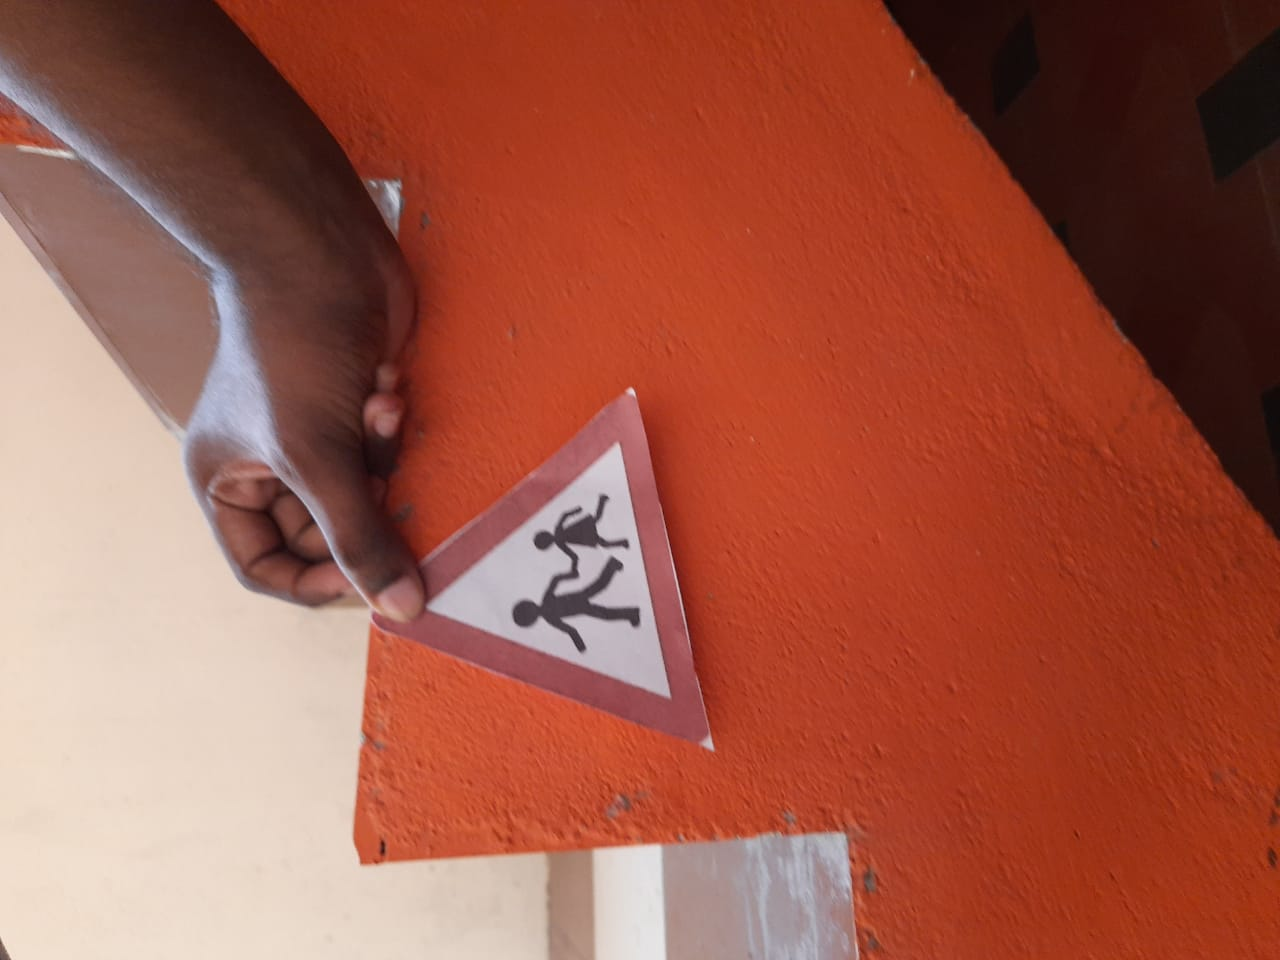SCHOOL ZONE: (346, 376, 729, 754)
